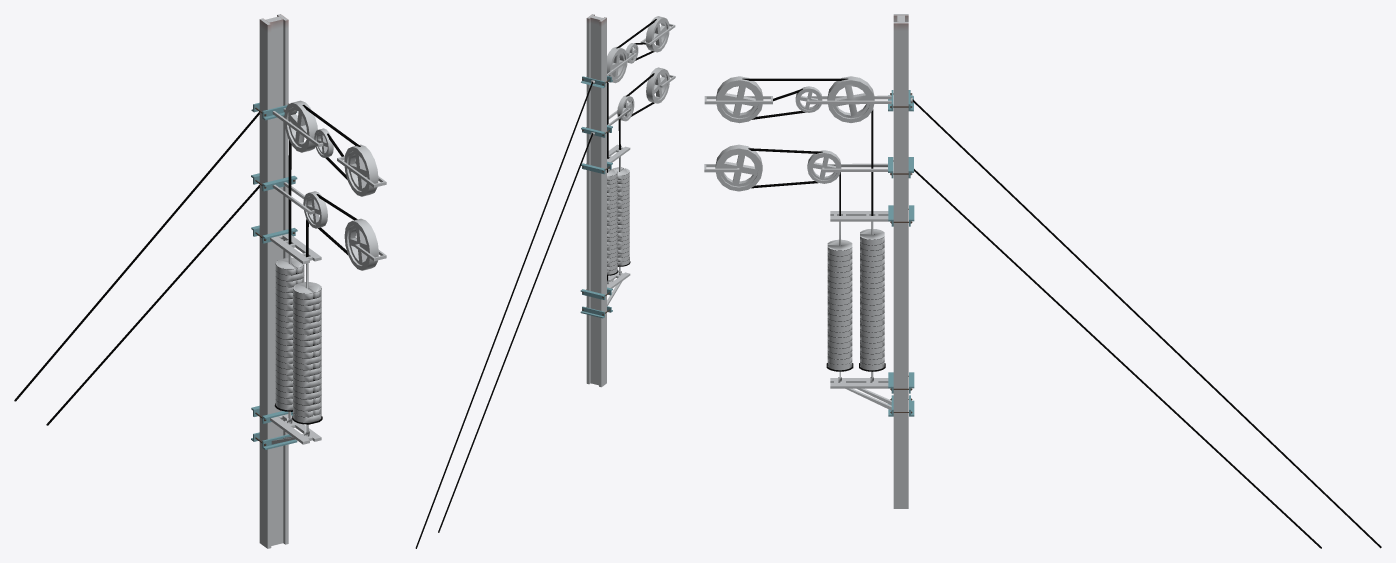
Rendered from compensator_pro_1.3.obj.
The picture shows the model from 3 angles, left to right: view 1: azimuth 30°, elevation 25°; view 2: azimuth 150°, elevation 25°; view 3: azimuth 270°, elevation 25°; orthographic projection. The views are drawn at different scales.
Parts seen in each view (by area): view 1: catenary_anti.001, catenary_anti, catenary_anti.039; view 2: catenary_anti.001, catenary_anti, catenary_anti.039; view 3: catenary_anti.001, catenary_anti, catenary_anti.039.
Boxes of the visible parts, x1,y1,x2,y2 form: catenary_anti.001: [251, 100, 386, 449]; catenary_anti: [259, 14, 288, 548]; catenary_anti.039: [14, 111, 259, 425]; catenary_anti.001: [416, 16, 675, 548]; catenary_anti: [586, 14, 606, 387]; catenary_anti.039: [415, 81, 592, 548]; catenary_anti.001: [704, 76, 914, 416]; catenary_anti: [893, 14, 908, 508]; catenary_anti.039: [912, 99, 1381, 548].
Bounding box in the file's own units: 0.5791 × 9.75 × 11.29.
3 materials, 3 textured.
